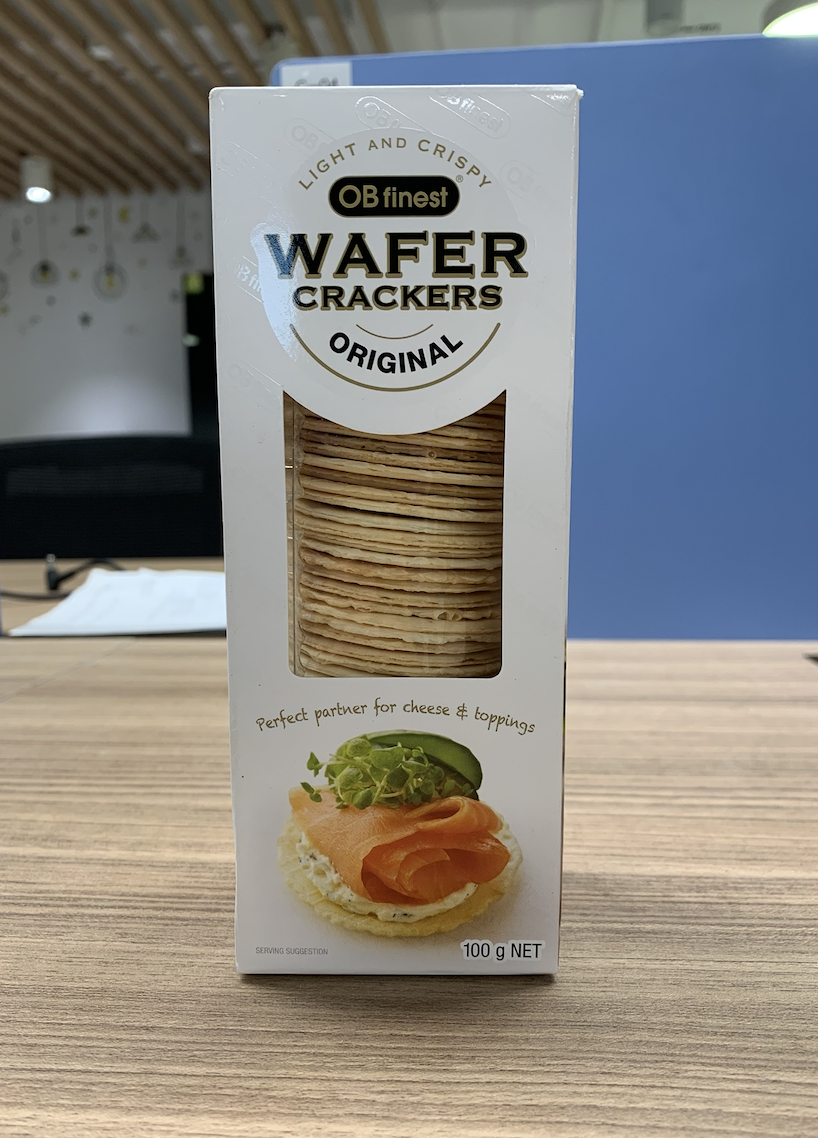crackers_150g: (225, 95, 557, 969)
